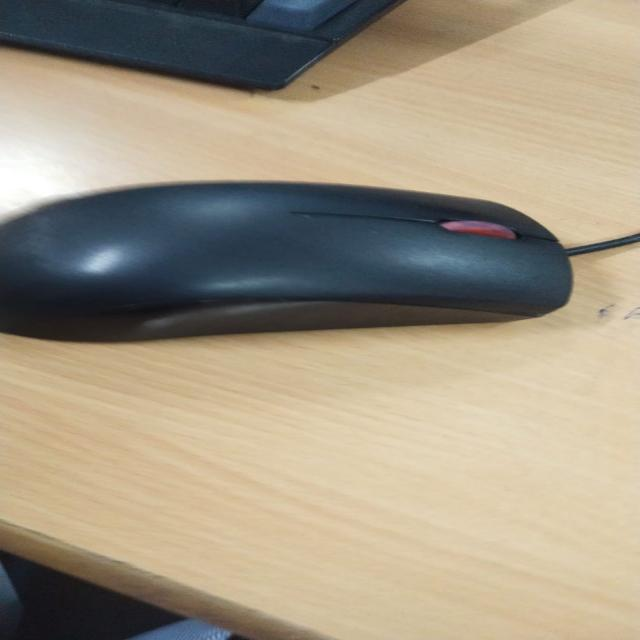mouse: (46, 133, 591, 354)
